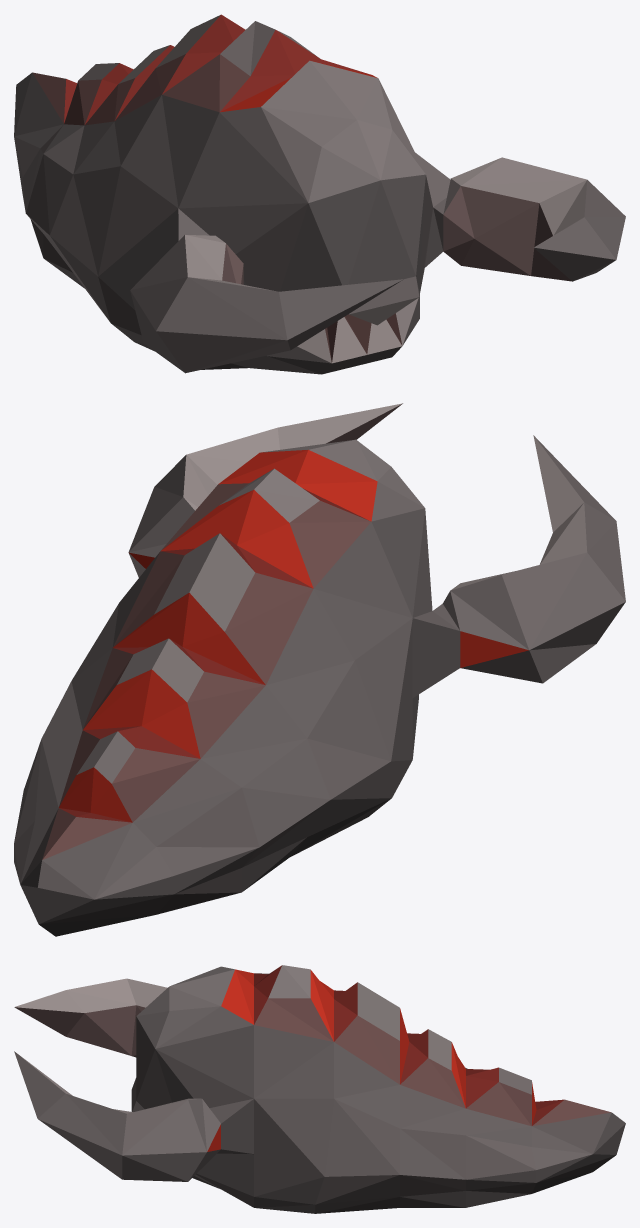
3 views of the same model, one above another, from view 1: azimuth 30°, elevation 25°; view 2: azimuth 150°, elevation 25°; view 3: azimuth 270°, elevation 25° (orthographic). The views are drawn at different scales.
Size of the model in its own units: 80 by 49 by 130.
2 materials, 2 textured.
